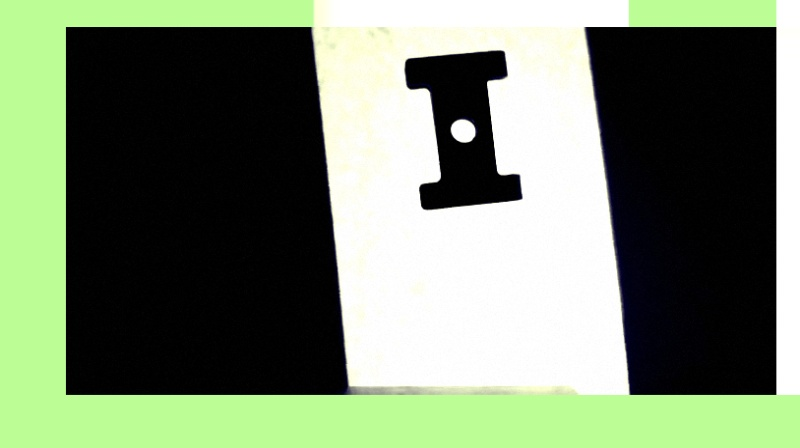O002: (399, 46, 527, 219)
